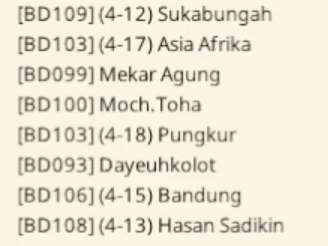station_id: (17, 94, 95, 116), (16, 34, 95, 55), (17, 125, 94, 146), (18, 155, 95, 176), (18, 185, 95, 206), (18, 64, 94, 85), (17, 5, 95, 25), (18, 216, 94, 236)
station_name: (98, 64, 221, 88), (157, 4, 273, 26), (99, 155, 217, 175), (158, 216, 284, 233), (97, 94, 203, 112), (157, 186, 242, 207), (158, 125, 238, 147), (158, 35, 253, 53)
station_numbering: (97, 125, 155, 146), (97, 186, 154, 207), (97, 36, 154, 54), (97, 217, 153, 235), (99, 6, 152, 25)
